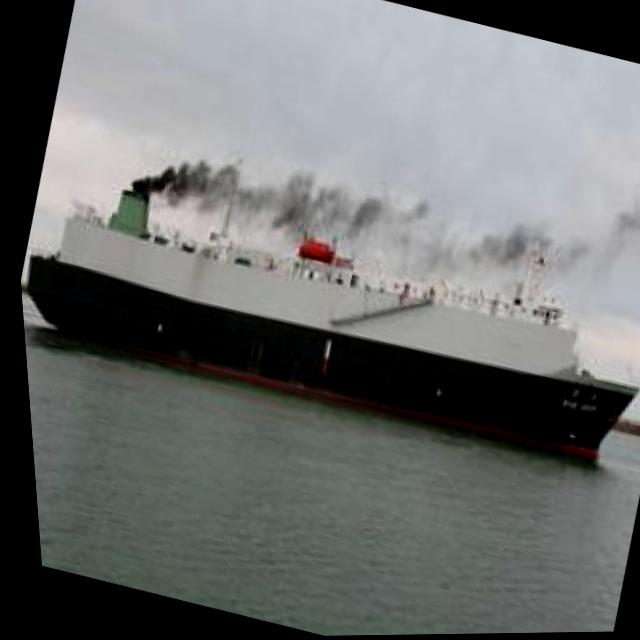ship2: (20, 151, 634, 472)
